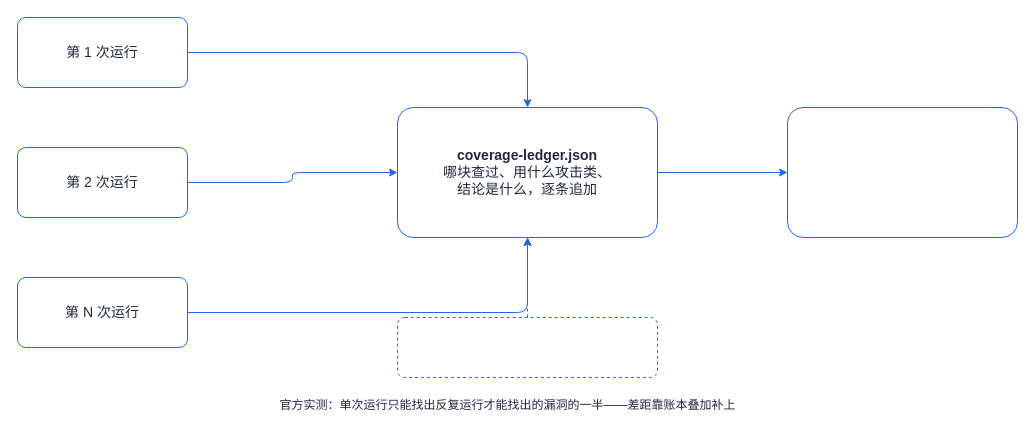
The diagram is 1035 pixels wide and 435 high, and some of its shapes have lost their labels. Here are the shapes that lost their labels. From the top down, the centre of each, then its label:
At [902,172]: "下一次运行先读旧账 盖过章的不重复烧钱 火力全压没查过的盲区".
At [527,347]: "源码改过的段落：旧结论作废，按未验证重跑".
